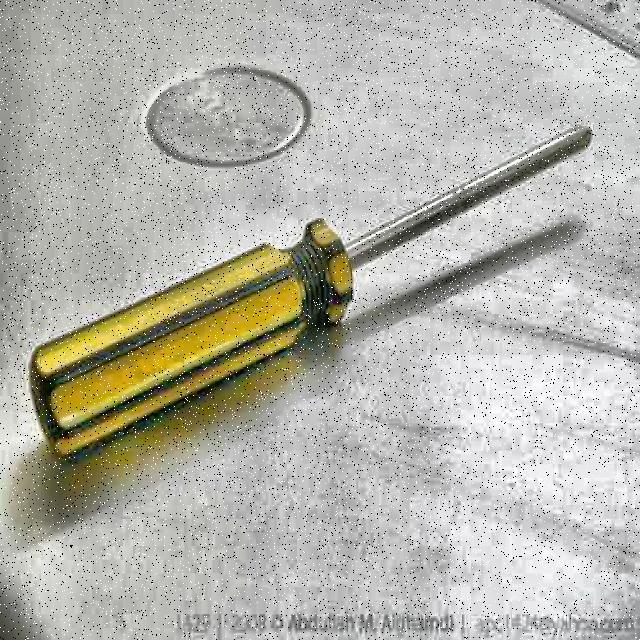screwdriver: (28, 122, 593, 460)
